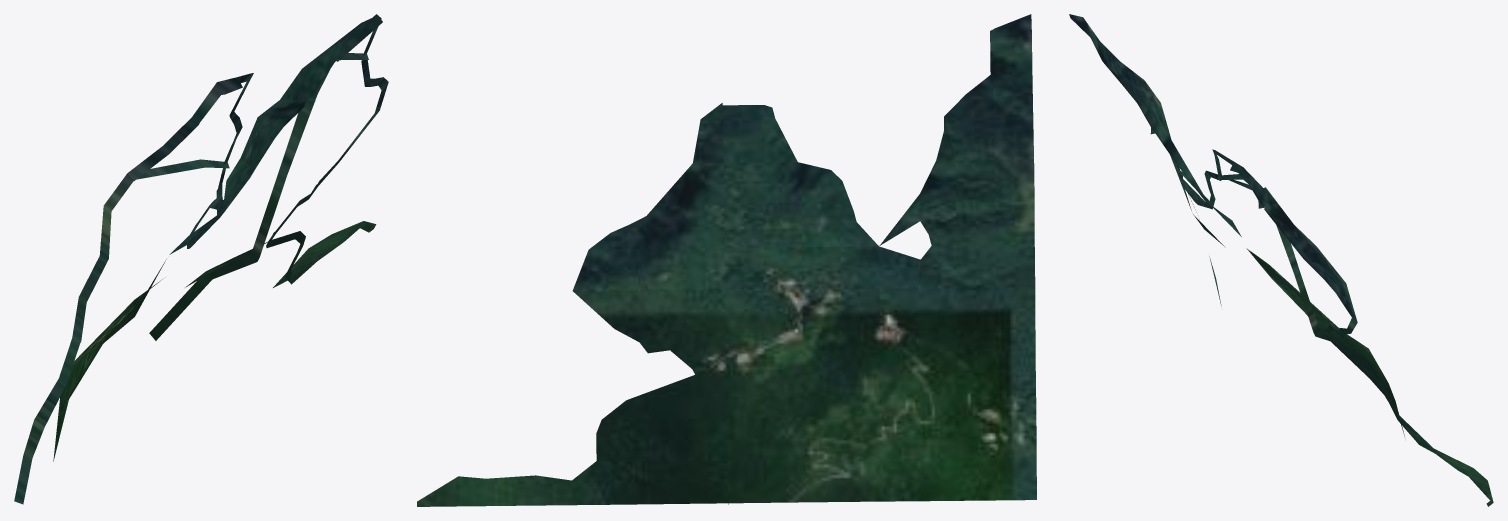
The picture shows the model from 3 angles, left to right: view 1: azimuth 30°, elevation 25°; view 2: azimuth 150°, elevation 25°; view 3: azimuth 270°, elevation 25°; orthographic projection. The views are drawn at different scales.
Bounding box in the file's own units: 1918 × 1586 × 1806.
Materials: 1 (1 with a texture image).
